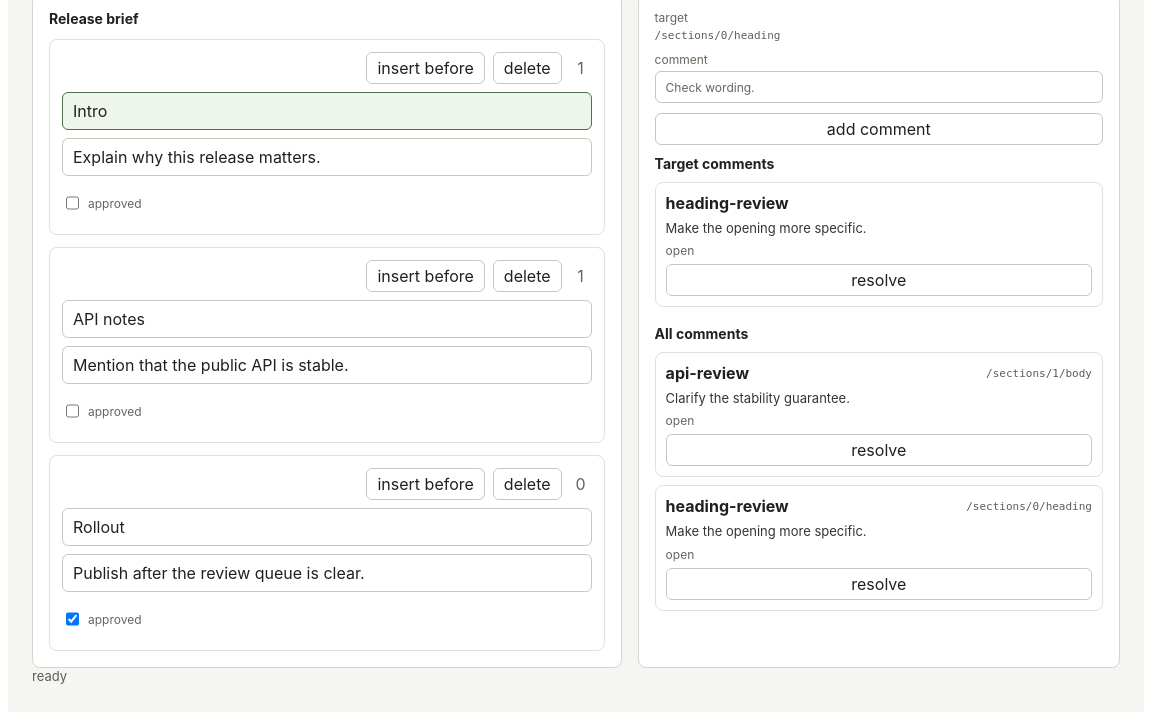
review comments lab dogfood › resolves and reopens comments without mutating document state
The image size is (1152, 720).
(page scrolled)
What coordinates should you click on to do the following:
click the button with aria-label "resolve heading-review"
I would click on:
 (879, 584)
Its box is left=666, top=568, right=1092, bottom=600.
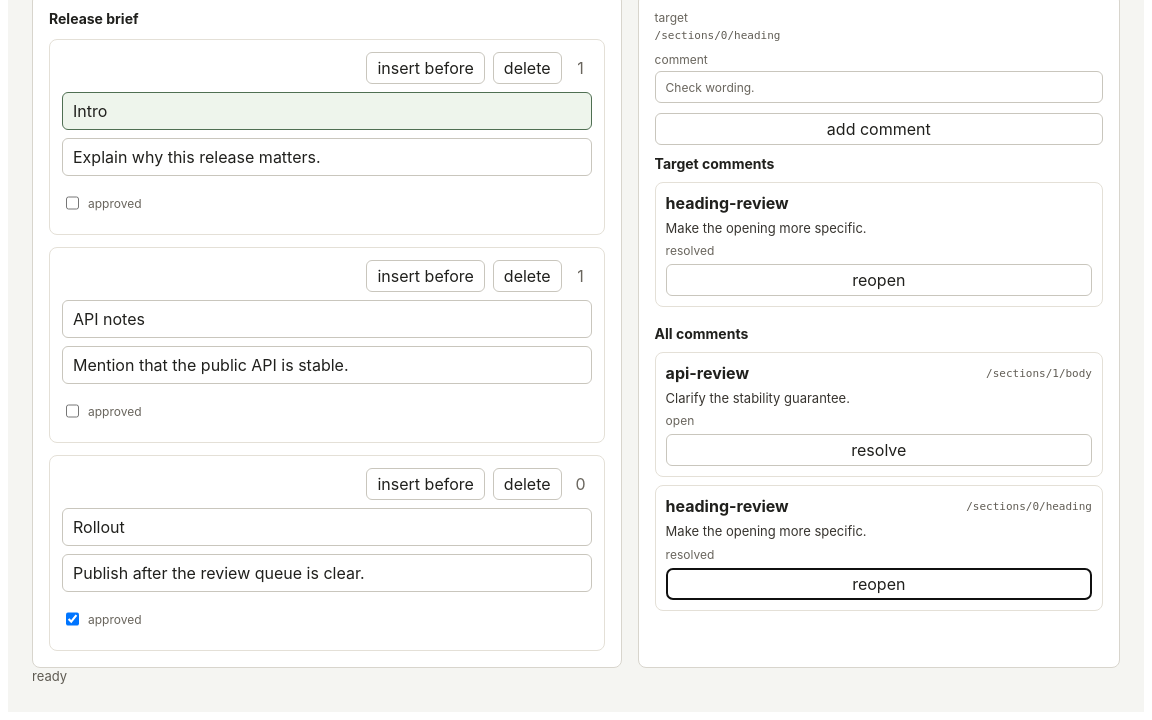
Expected: the button "Intro" is shown, left=62, top=92, right=592, bottom=130
Expected: the button with aria-label "reopen heading-review" is shown, left=666, top=568, right=1092, bottom=600
